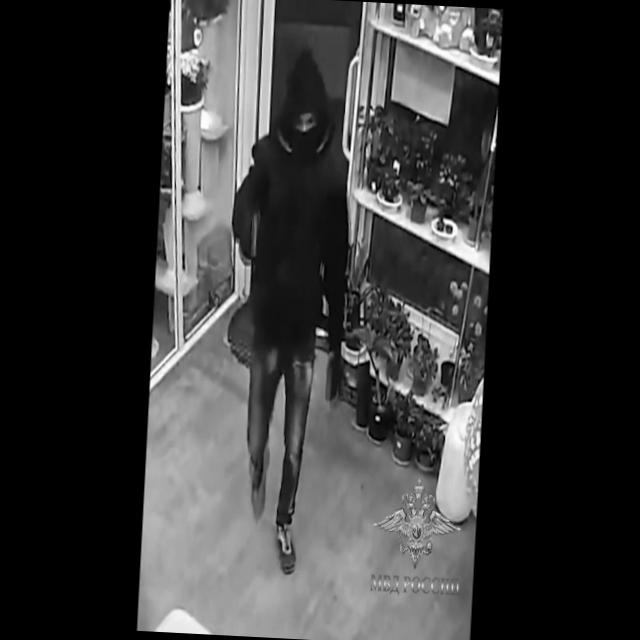gun: (242, 194, 264, 268)
person with a gun: (217, 81, 360, 554)
